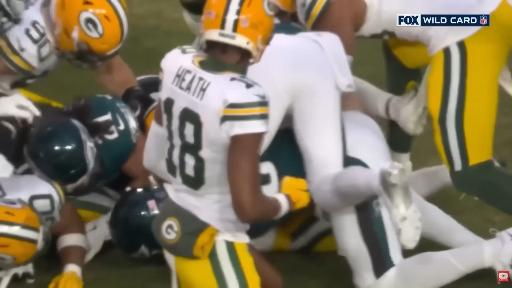Helmet: (25, 95, 138, 195), (66, 95, 139, 183), (24, 114, 100, 193), (42, 0, 128, 66), (201, 0, 275, 62), (110, 186, 167, 259), (0, 199, 49, 269), (137, 75, 161, 131), (180, 0, 206, 34), (137, 75, 161, 100), (0, 0, 26, 23), (269, 0, 297, 13)
Jersey: (150, 47, 268, 233), (248, 32, 354, 183), (357, 0, 501, 54), (0, 0, 58, 92), (80, 95, 138, 183), (82, 95, 139, 183), (249, 205, 335, 251), (0, 175, 64, 227)
Player: (273, 0, 511, 213), (144, 0, 309, 287), (248, 33, 385, 210), (341, 198, 510, 287), (0, 0, 143, 98), (0, 95, 147, 189), (23, 95, 138, 193), (0, 176, 88, 287), (354, 77, 427, 140)
